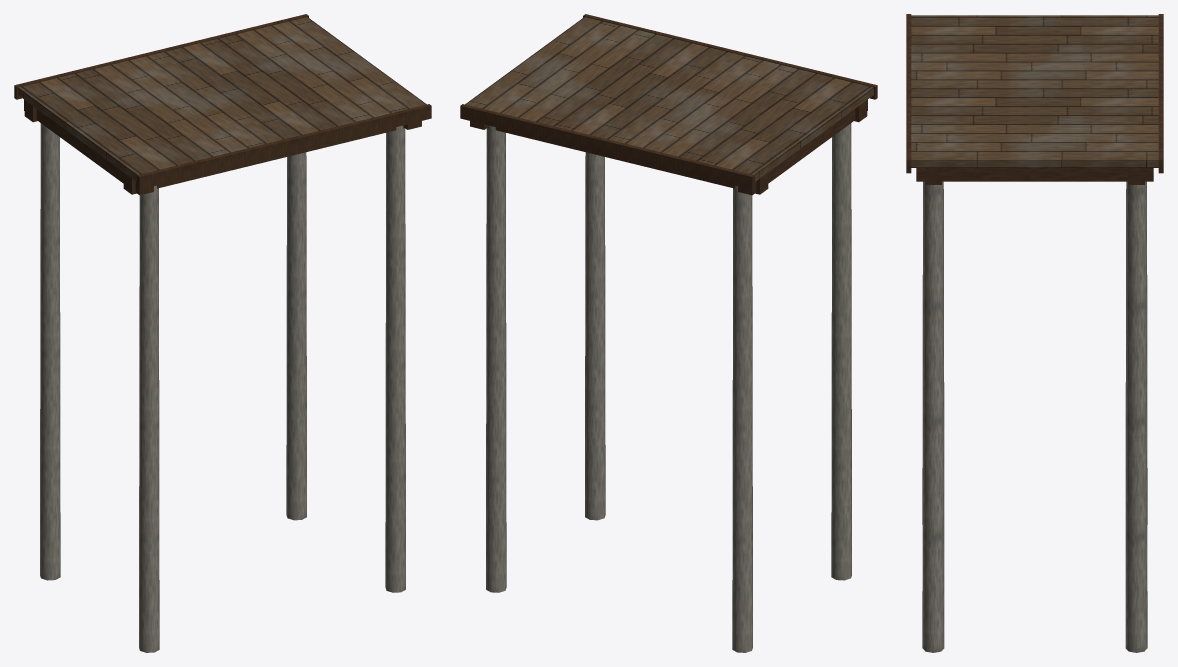
The model's file is SM_Art_Pier_405x300x100_P650.gltf.
The picture shows the model from 3 angles, left to right: view 1: azimuth 30°, elevation 25°; view 2: azimuth 150°, elevation 25°; view 3: azimuth 270°, elevation 25°; orthographic projection. The views are drawn at different scales.
Visible parts, largest first — view 1: SM_Art_Pier_405x300x100_P650; view 2: SM_Art_Pier_405x300x100_P650; view 3: SM_Art_Pier_405x300x100_P650.
Boxes of the visible parts, <box> form: SM_Art_Pier_405x300x100_P650: <box>14,14,431,652</box>; SM_Art_Pier_405x300x100_P650: <box>460,14,877,652</box>; SM_Art_Pier_405x300x100_P650: <box>906,14,1163,652</box>.
Size of the model in its own units: 4.09 by 6.51 by 3.04.
3 materials, 3 textured.
